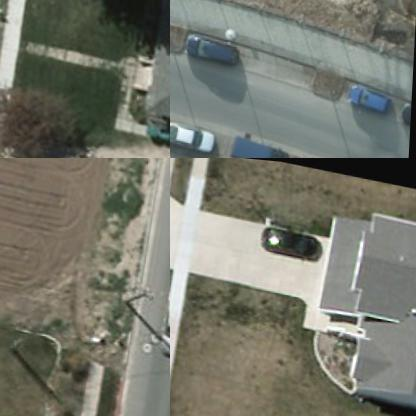car: (239, 117, 302, 157), (260, 218, 324, 256), (188, 27, 242, 64), (170, 116, 220, 149), (344, 73, 393, 105), (160, 279, 169, 350), (404, 86, 412, 116)
